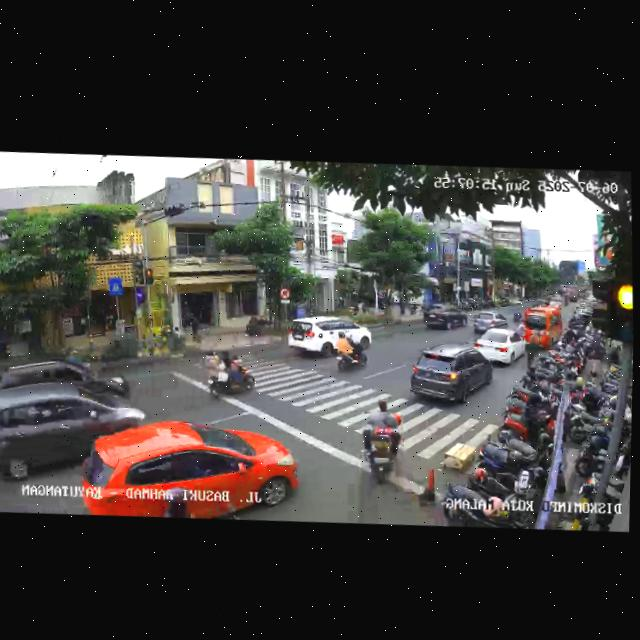car: (77, 409, 300, 529), (0, 376, 150, 490), (0, 351, 130, 403), (406, 342, 495, 411), (286, 311, 370, 365), (473, 323, 528, 366), (521, 303, 563, 350), (422, 302, 467, 334), (468, 307, 509, 335)
motorcycle: (358, 397, 407, 486), (205, 347, 258, 401), (334, 328, 369, 373)
